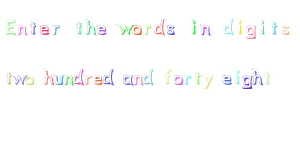E: (4, 17, 16, 36)
a: (122, 73, 134, 86)
d: (153, 16, 166, 36), (72, 66, 84, 86), (222, 18, 235, 36), (103, 67, 115, 86), (143, 68, 154, 86)
e: (96, 23, 108, 36), (221, 72, 232, 86), (38, 23, 50, 35), (93, 73, 102, 87)
f: (161, 67, 172, 85)
g: (245, 23, 256, 41), (242, 73, 252, 90)
h: (42, 66, 54, 86), (85, 17, 97, 35), (252, 66, 263, 85)
i: (188, 17, 198, 35), (232, 67, 241, 85), (235, 18, 244, 35), (258, 18, 267, 35)
n: (198, 23, 211, 37), (62, 73, 74, 86), (134, 73, 143, 88), (17, 22, 27, 35)
o: (131, 23, 143, 36), (24, 73, 34, 86), (173, 74, 183, 86)
r: (51, 23, 62, 36), (84, 74, 93, 87), (183, 73, 192, 86), (143, 23, 152, 35)
s: (165, 23, 177, 37), (280, 23, 291, 38)
t: (268, 21, 279, 36), (28, 20, 38, 36), (74, 21, 84, 36), (194, 70, 202, 86), (4, 70, 12, 85), (263, 70, 271, 85)
u: (53, 72, 64, 86)
w: (115, 22, 133, 35), (13, 74, 26, 85)
y: (202, 73, 214, 90)
